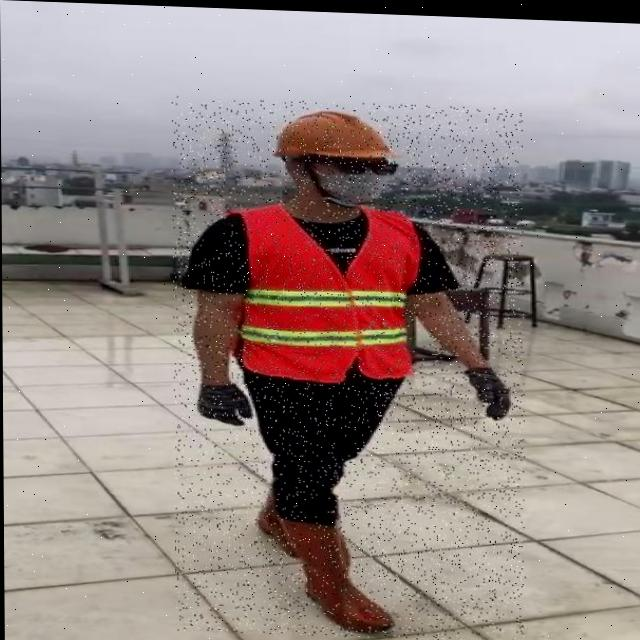Gloves: (462, 361, 510, 416), (195, 379, 250, 424)
Helmet: (271, 105, 397, 168)
Safety-Boot: (275, 511, 393, 630)
Safety-Vest: (225, 198, 422, 383)
